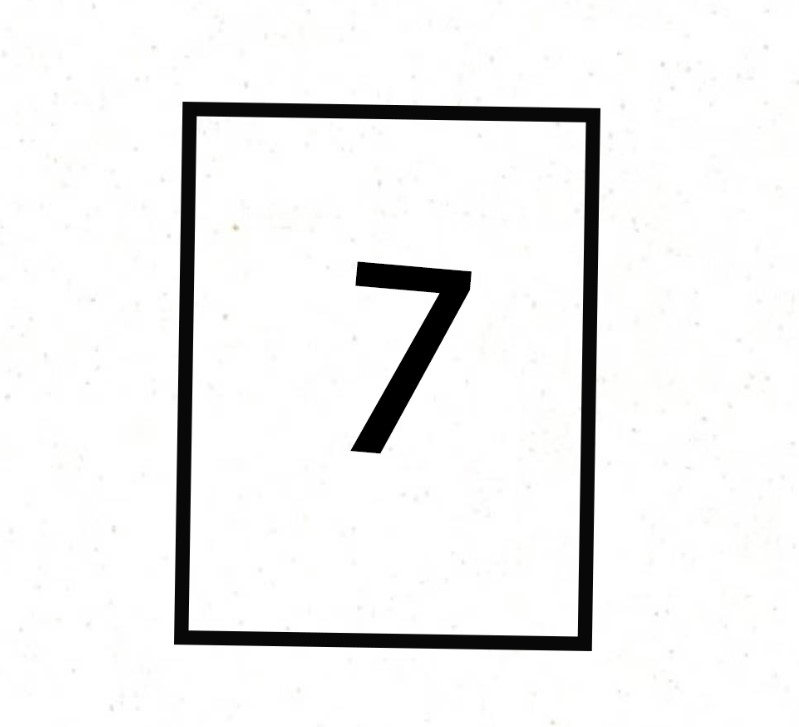seven: (282, 187, 526, 520)
